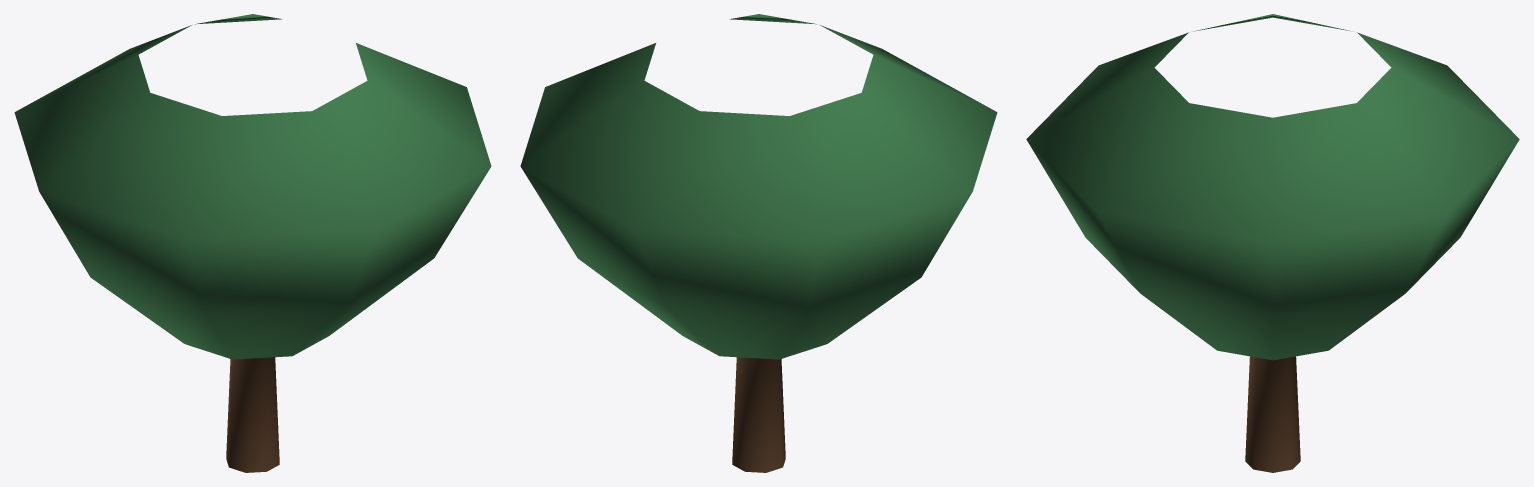
File: broadleaf-oval.gltf
3 renders of one model, left to right at view 1: azimuth 30°, elevation 25°; view 2: azimuth 150°, elevation 25°; view 3: azimuth 270°, elevation 25°, orthographic.
Visible parts, largest first — view 1: broadleaf-oval; view 2: broadleaf-oval; view 3: broadleaf-oval.
Part boxes in pixels (left/top/right/bottom): broadleaf-oval: left=14, top=14, right=491, bottom=472; broadleaf-oval: left=520, top=14, right=997, bottom=472; broadleaf-oval: left=1026, top=14, right=1519, bottom=472.
Size of the model in its own units: 1 by 1 by 1.
